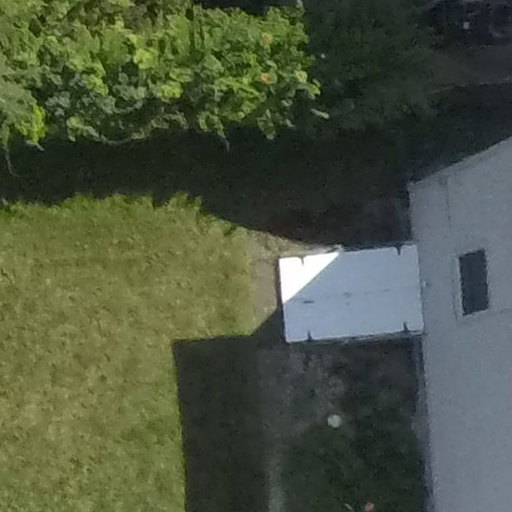container: (327, 412, 345, 434)
